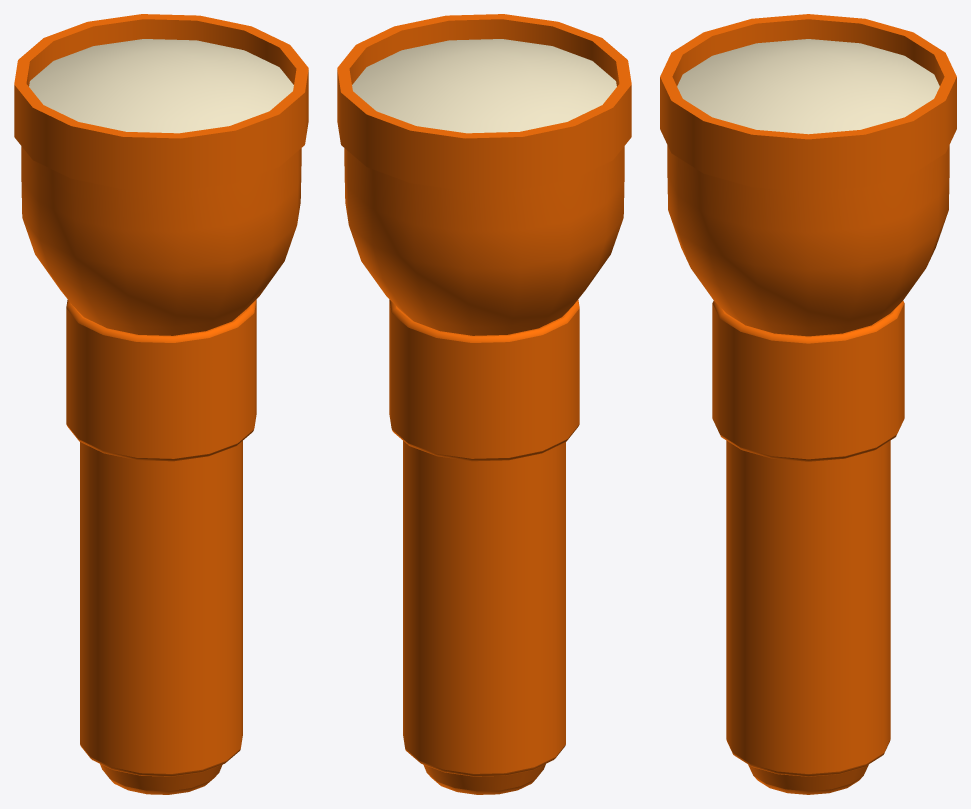
File: 手電筒.dae
3 views of the same model, side by side, from view 1: azimuth 30°, elevation 25°; view 2: azimuth 150°, elevation 25°; view 3: azimuth 270°, elevation 25° (orthographic).
Parts seen in each view (by area): view 1: 连接.1, 油桶, 连接 (×2), 管道, 油桶.1; view 2: 连接.1, 油桶, 连接 (×2), 管道, 油桶.1; view 3: 连接.1, 油桶, 连接 (×2), 管道, 油桶.1.
Part boxes in pixels (x1,y1,x2,y2): 连接.1: (80, 441, 242, 776); 油桶: (21, 146, 301, 335); 连接 (×2): (66, 299, 256, 794); 管道: (14, 14, 308, 190); 油桶.1: (29, 39, 293, 133); 连接.1: (403, 441, 565, 776); 油桶: (344, 146, 624, 335); 连接 (×2): (389, 299, 579, 794); 管道: (337, 14, 631, 190); 油桶.1: (352, 39, 616, 133); 连接.1: (726, 440, 890, 776); 油桶: (667, 145, 949, 336); 连接 (×2): (712, 301, 904, 794); 管道: (660, 14, 956, 191); 油桶.1: (677, 39, 939, 134).
Size of the model in its own units: 3.19 by 8.36 by 3.19.
